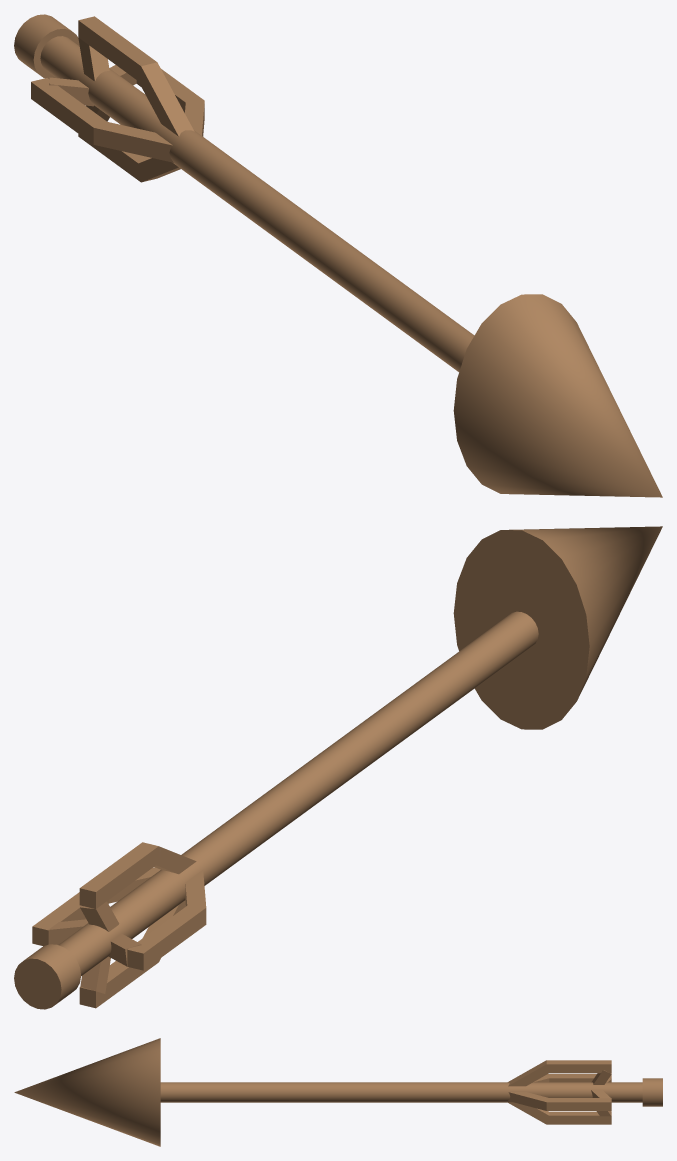
The model's file is Archer_Weapon_Arrow.fbx.
The picture shows the model from 3 angles, top to bottom: view 1: azimuth 30°, elevation 25°; view 2: azimuth 150°, elevation 25°; view 3: azimuth 270°, elevation 25°; orthographic projection. The views are drawn at different scales.
Visible parts, largest first — view 1: pCube26; view 2: pCube26; view 3: pCube26.
Part boxes in pixels (x1,y1,x2,y2): pCube26: (14,14,662,497); pCube26: (14,526,662,1009); pCube26: (14,1038,662,1146).
Size of the model in its own units: 8.22 by 11.5 by 65.44.
